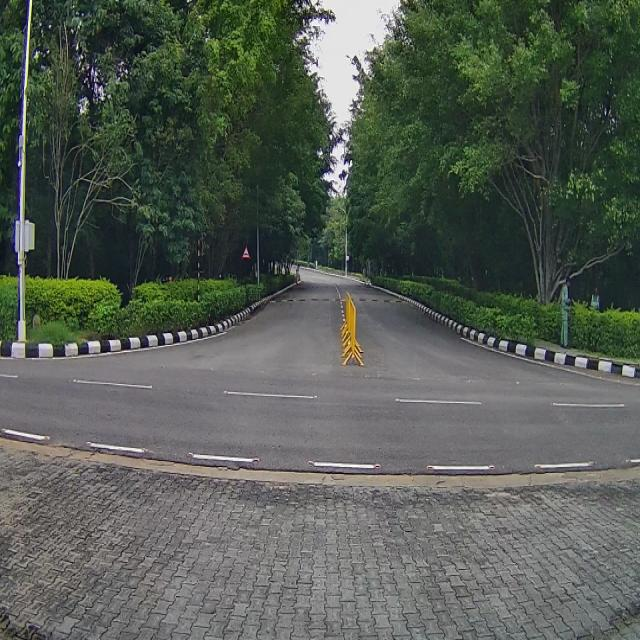barrier ahead at: (336, 285, 368, 378)
